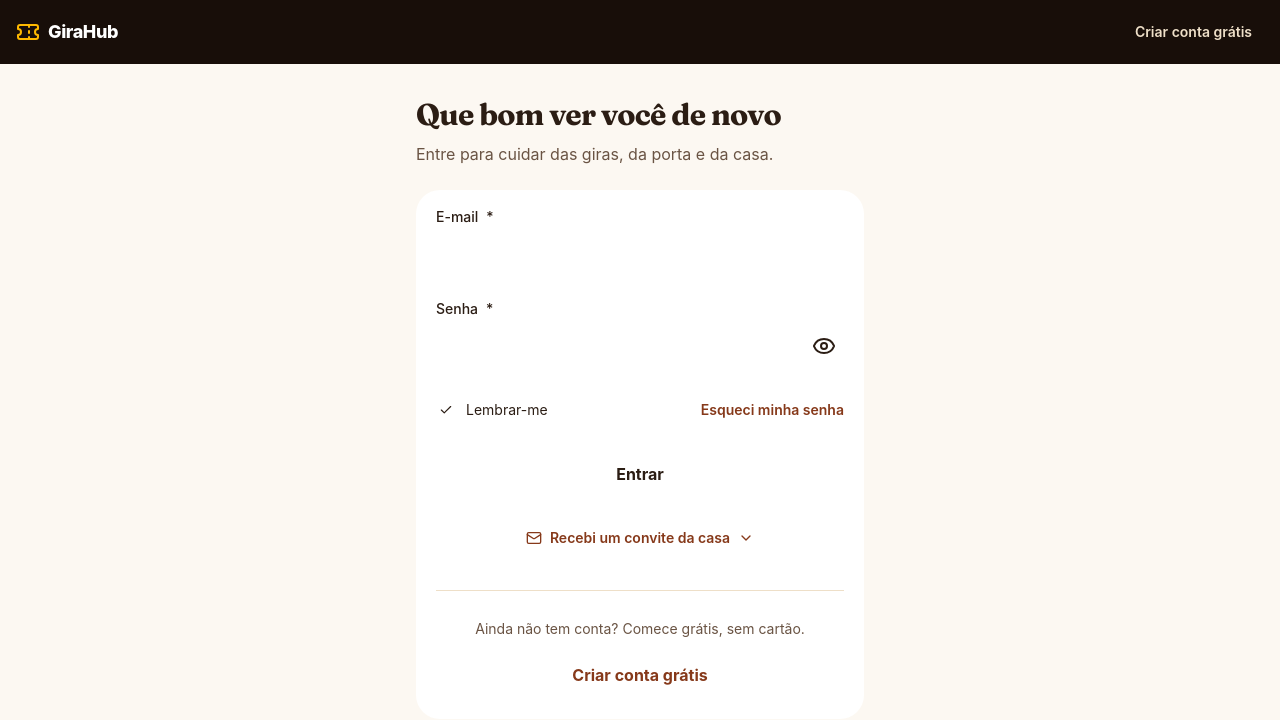
Scenario: Login — Lembrar-me › "Recebi um convite da casa" explica que o primeiro acesso é pelo link da casa (AM-04)
The image size is (1280, 720).
Expected: the text "o primeiro acesso começa pelo link da casa" is not shown
Click the button "Recebi um convite da casa" at x=640, y=538, box x1=526 y1=514 x2=754 y2=562
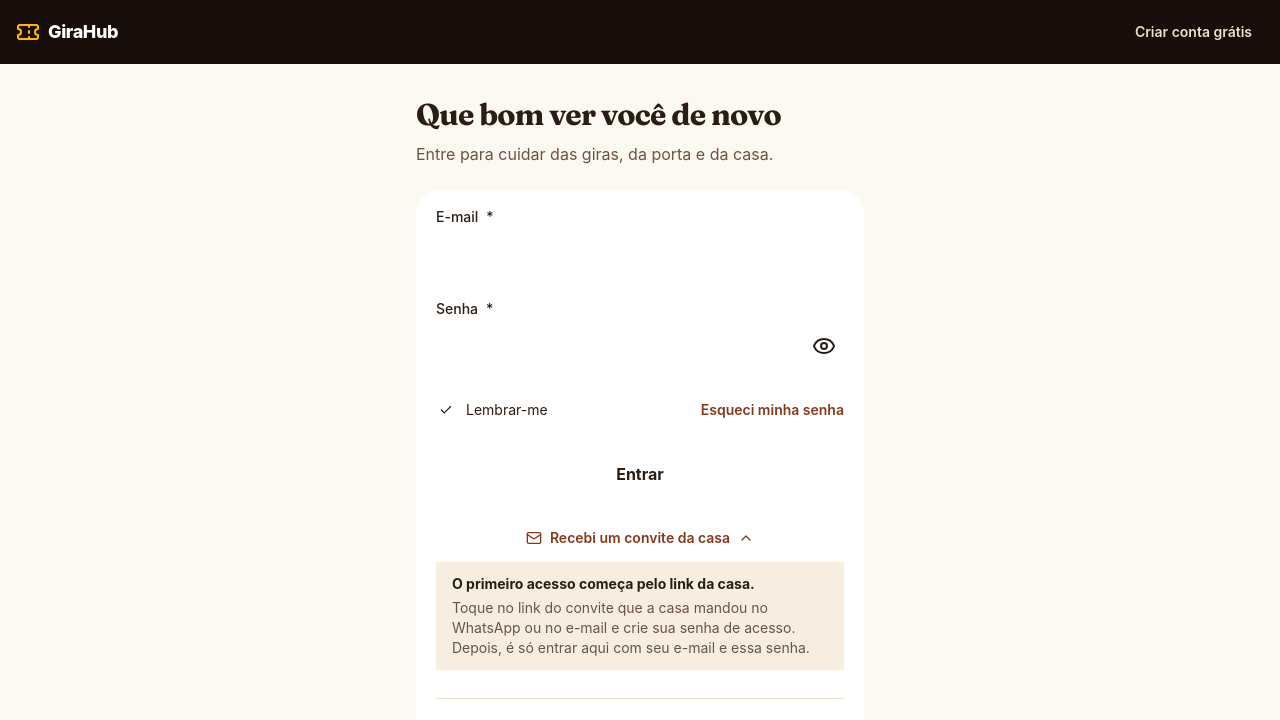
Expected: the button "Recebi um convite da casa" is expanded, x1=526 y1=514 x2=754 y2=562
Expected: the text "O primeiro acesso começa pelo link da casa." is shown, x1=452 y1=574 x2=755 y2=592
Expected: the text "WhatsApp ou no e-mail" is shown, x1=452 y1=598 x2=810 y2=656
